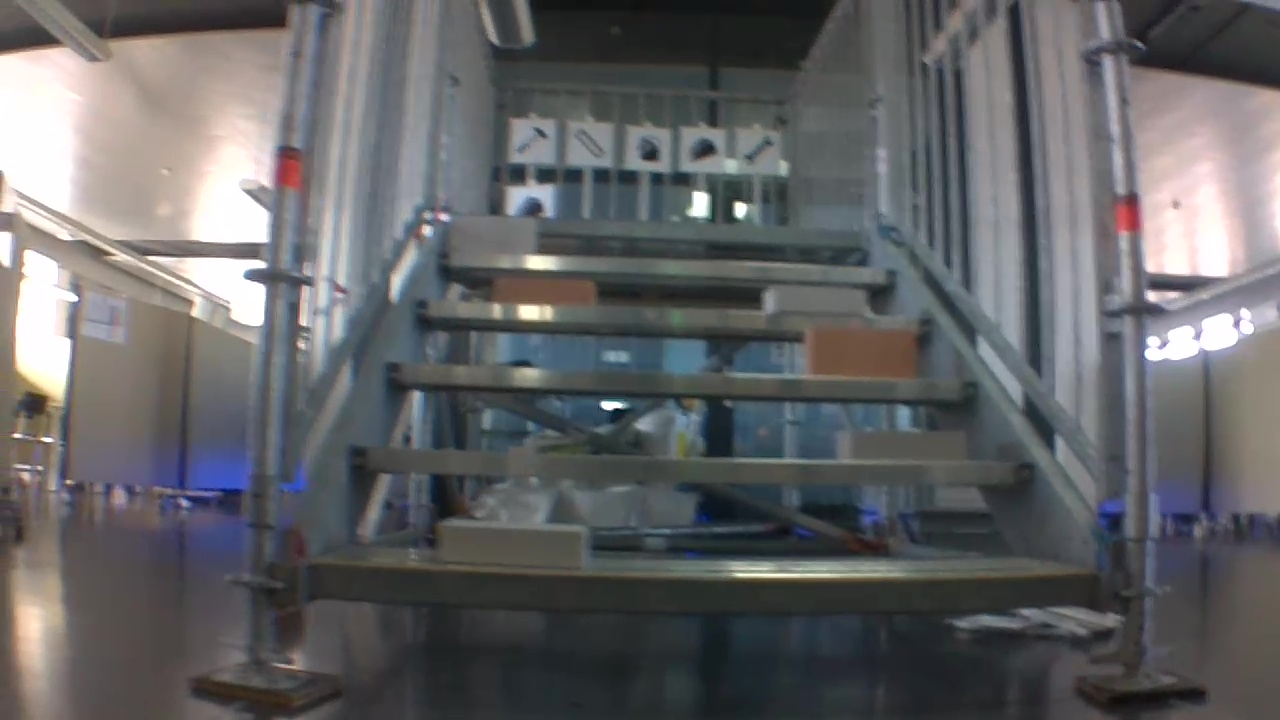brick: (434, 522, 591, 564), (799, 331, 919, 382), (834, 429, 974, 462), (432, 216, 535, 259), (769, 287, 870, 311), (494, 282, 595, 302)
bucket: (631, 132, 664, 164)
edge: (302, 573, 1102, 611), (342, 445, 1040, 488), (384, 362, 981, 409), (415, 298, 930, 333), (437, 253, 899, 279), (464, 223, 864, 237)
hammer: (514, 125, 550, 157)
ruler: (572, 128, 607, 157)
stairs: (235, 0, 1145, 701)
steps: (277, 225, 1098, 603)
taco: (689, 135, 720, 161), (521, 191, 544, 213)
wrench: (741, 135, 775, 167)
